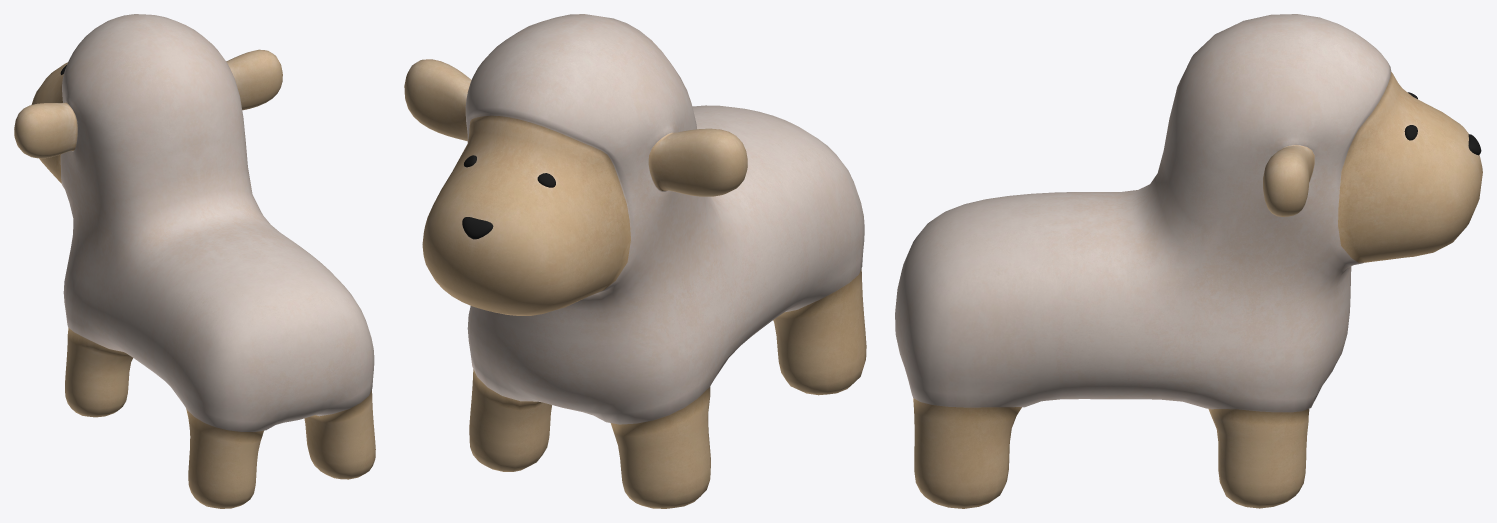
Rendered from sheep_mesh.obj.
The picture shows the model from 3 angles, left to right: view 1: azimuth 30°, elevation 25°; view 2: azimuth 150°, elevation 25°; view 3: azimuth 270°, elevation 25°; orthographic projection. The views are drawn at different scales.
Parts seen in each view (by area): view 1: Cube.010_Cube.002; view 2: Cube.010_Cube.002; view 3: Cube.010_Cube.002.
Boxes of the visible parts, x1,y1,x2,y2 form: Cube.010_Cube.002: [14, 14, 375, 508]; Cube.010_Cube.002: [404, 14, 866, 508]; Cube.010_Cube.002: [895, 14, 1482, 508].
Bounding box in the file's own units: 1.11 × 1.46 × 1.76.
Materials: 1 (1 with a texture image).
